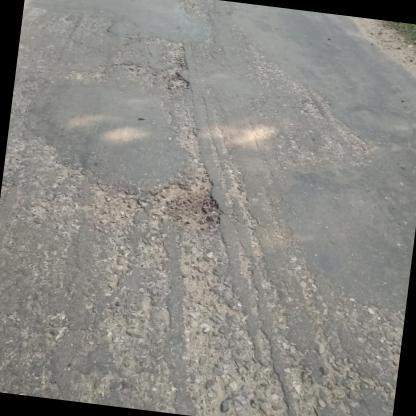pothole: (146, 175, 226, 233), (164, 70, 190, 94)
